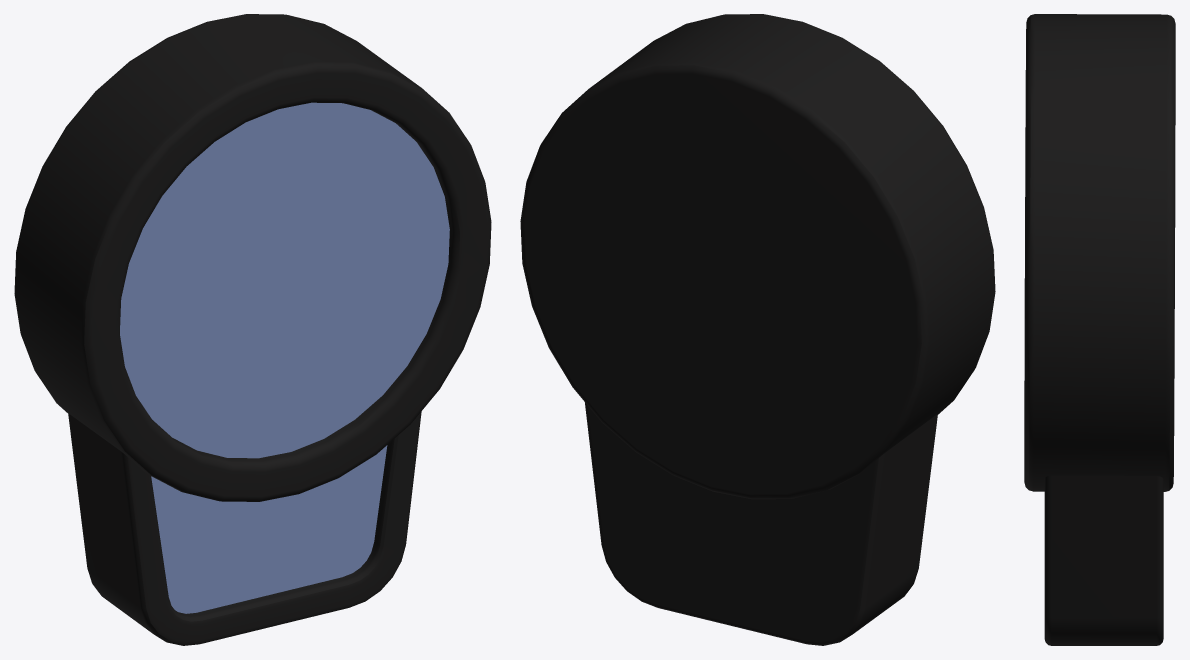
File: UI_Radar1.fbx
3 renders of one model, left to right at view 1: azimuth 30°, elevation 25°; view 2: azimuth 150°, elevation 25°; view 3: azimuth 270°, elevation 25°, orthographic.
Parts seen in each view (by area): view 1: pCylinder3, pCylinder7, pCube2, pPlane2; view 2: pCylinder7, pCube2; view 3: pCylinder7, pCube2.
Boxes of the visible parts, x1,y1,x2,y2 form: pCylinder3: (120,102,449,458); pCylinder7: (14,14,491,501); pCube2: (68,411,421,645); pPlane2: (151,445,387,613); pCylinder7: (520,14,995,499); pCube2: (585,402,937,645); pCylinder7: (1024,14,1175,491); pCube2: (1044,475,1163,645).
Bounding box in the file's own units: 0.1525 × 0.0484 × 0.2005.
